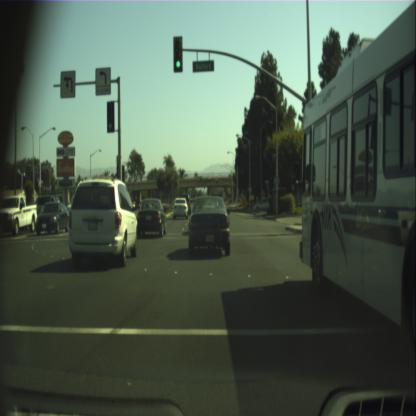Green: (172, 36, 182, 72)
GreenLeft: (106, 100, 114, 132)
Red: (208, 176, 210, 180), (216, 178, 217, 184)
